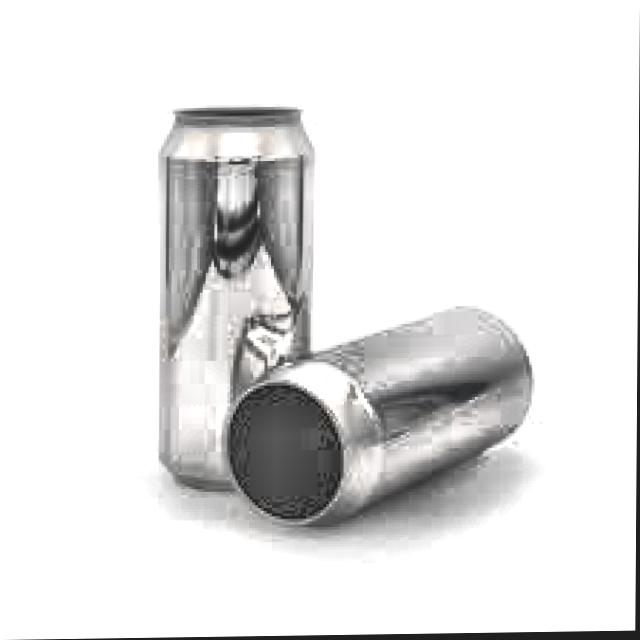can: (216, 298, 540, 549), (152, 98, 321, 505)
